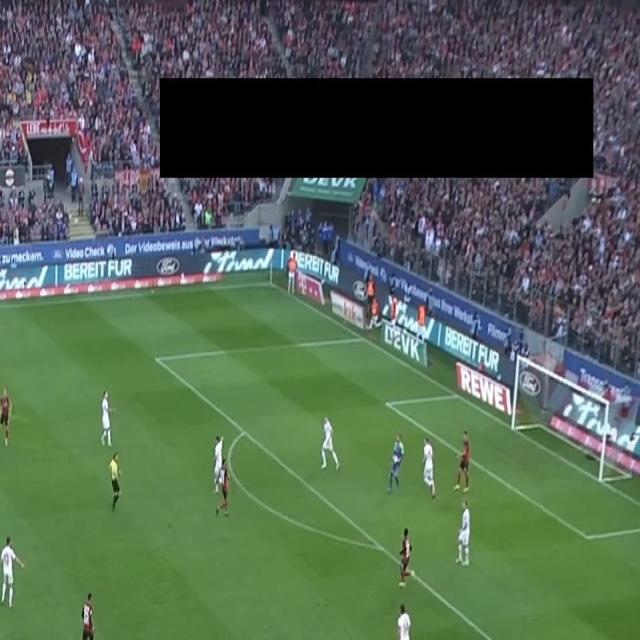ball: (394, 455, 398, 463)
